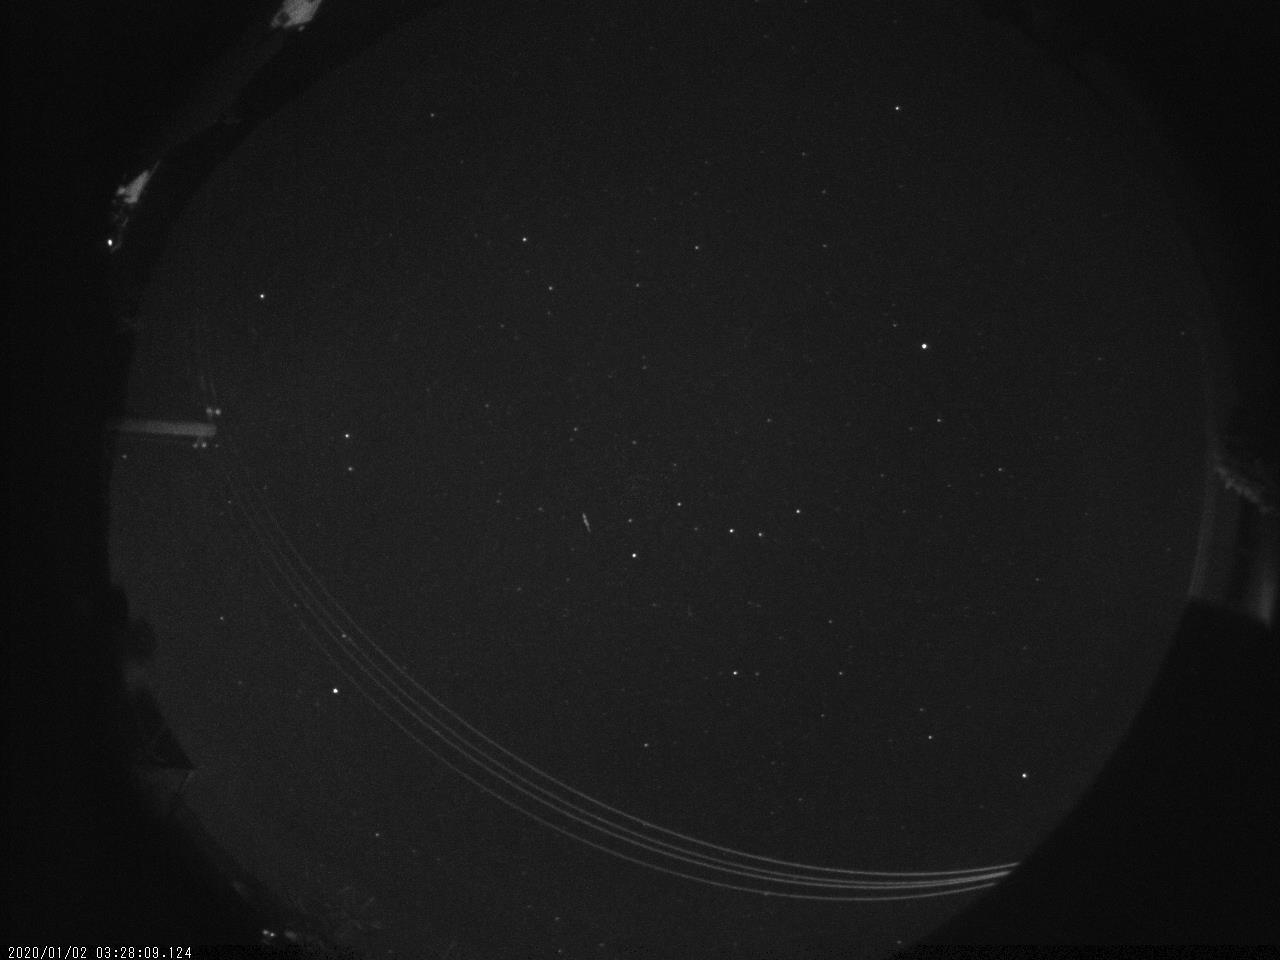Meteor: (577, 506, 595, 538)
